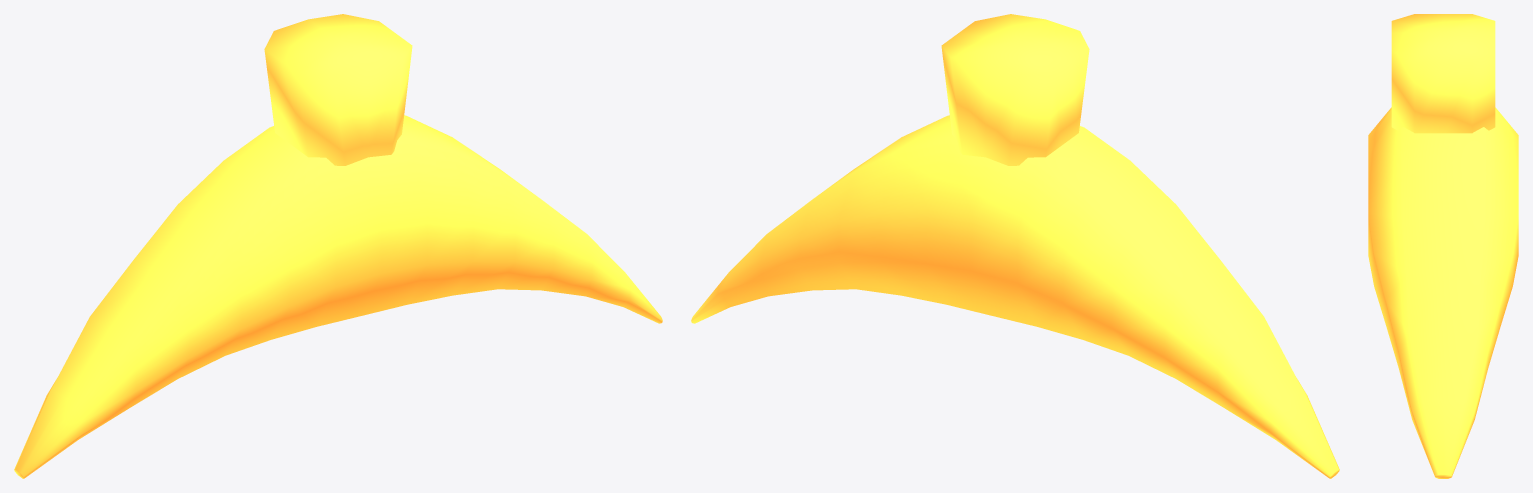
The model's file is gold_pommel_008.glb.
The picture shows the model from 3 angles, left to right: view 1: azimuth 30°, elevation 25°; view 2: azimuth 150°, elevation 25°; view 3: azimuth 270°, elevation 25°; orthographic projection. The views are drawn at different scales.
Visible parts, largest first — view 1: gold_pommel_008; view 2: gold_pommel_008; view 3: gold_pommel_008.
Part boxes in pixels (x1,y1,x2,y2): gold_pommel_008: [14, 14, 662, 478]; gold_pommel_008: [691, 14, 1339, 478]; gold_pommel_008: [1368, 14, 1518, 478].
Bounding box in the file's own units: 3.84 × 2.05 × 0.8996.
Materials: 1 (1 with a texture image).
